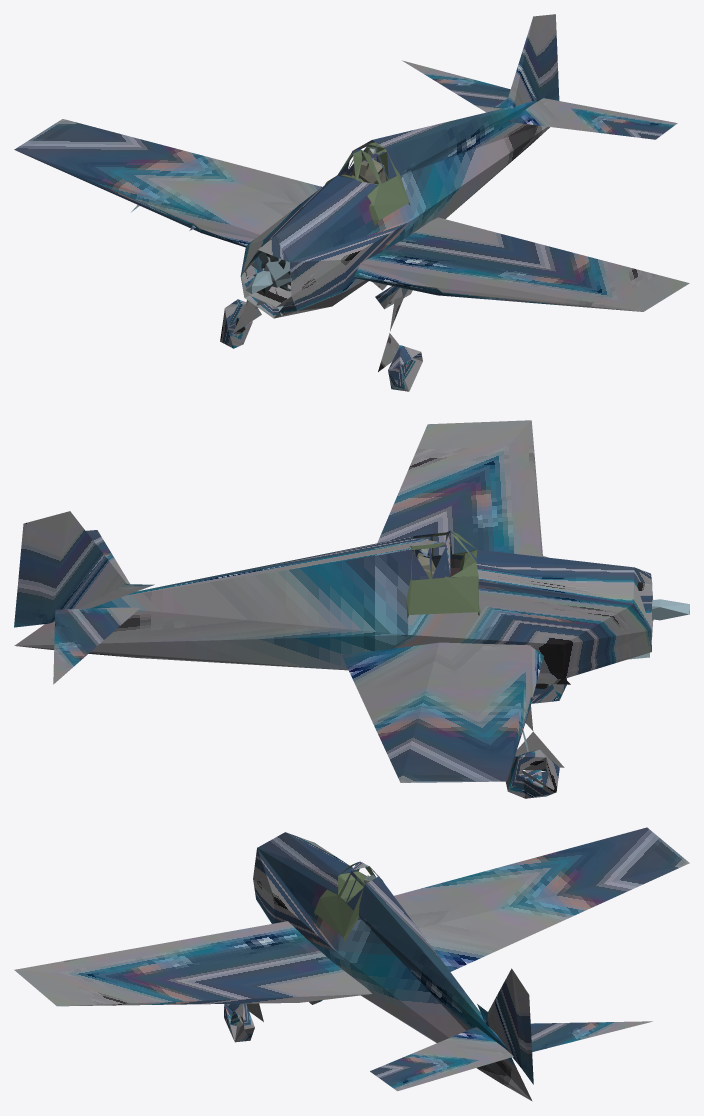
3 views of the same model, one above another, from view 1: azimuth 30°, elevation 25°; view 2: azimuth 150°, elevation 25°; view 3: azimuth 270°, elevation 25° (orthographic). The views are drawn at different scales.
Parts seen in each view (by area): view 1: Box40-FACES, Line143-FACES; view 2: Box40-FACES, Line143-FACES; view 3: Box40-FACES, Line143-FACES.
Boxes of the visible parts, x1,y1,x2,y2 form: Box40-FACES: [14, 14, 689, 391]; Line143-FACES: [246, 142, 410, 315]; Box40-FACES: [14, 420, 653, 798]; Line143-FACES: [406, 531, 689, 752]; Box40-FACES: [14, 827, 689, 1101]; Line143-FACES: [314, 863, 383, 942].
Size of the model in its own units: 10.59 by 3.9 by 11.91.
Materials: 1 (1 with a texture image).
